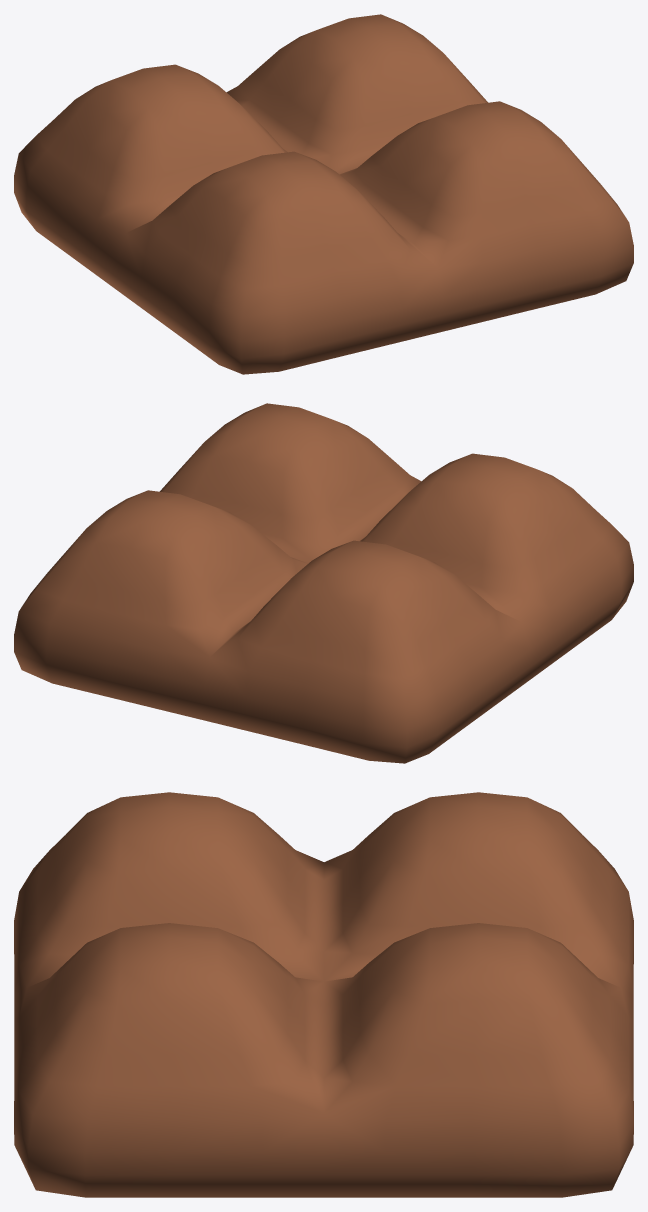
File: candy_assets28.fbx
The picture shows the model from 3 angles, top to bottom: view 1: azimuth 30°, elevation 25°; view 2: azimuth 150°, elevation 25°; view 3: azimuth 270°, elevation 25°; orthographic projection. The views are drawn at different scales.
Parts seen in each view (by area): view 1: candy_assets28; view 2: candy_assets28; view 3: candy_assets28.
Part boxes in pixels (x1,y1,x2,y2): candy_assets28: [14, 14, 633, 374]; candy_assets28: [14, 403, 633, 763]; candy_assets28: [14, 792, 633, 1197].
Size of the model in its own units: 571 by 212 by 571.
Materials: 1 (1 with a texture image).
